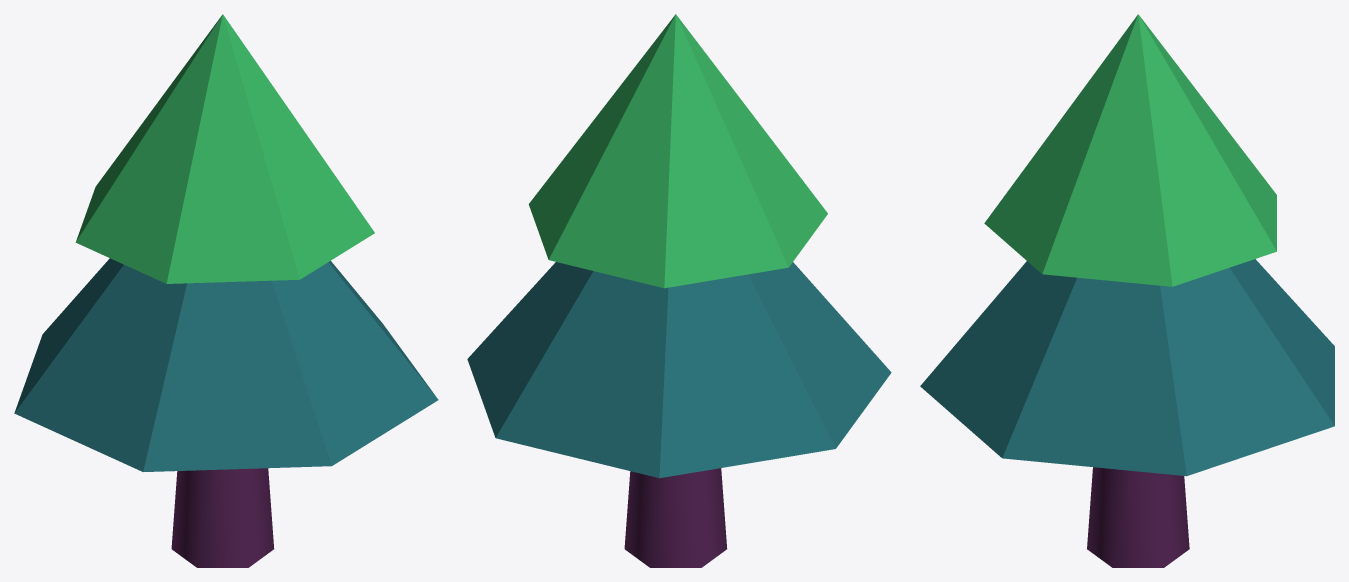
The model's file is tree.glb.
3 views of the same model, side by side, from view 1: azimuth 30°, elevation 25°; view 2: azimuth 150°, elevation 25°; view 3: azimuth 270°, elevation 25° (orthographic).
Visible parts, largest first — view 1: Leaves_Low, Leaves_High, Trunk; view 2: Leaves_Low, Leaves_High, Trunk; view 3: Leaves_Low, Leaves_High, Trunk.
Part boxes in pixels (<box>): Leaves_Low: <box>14,258,438,471</box>; Leaves_High: <box>75,14,374,283</box>; Trunk: <box>171,468,274,567</box>; Leaves_Low: <box>467,262,891,478</box>; Leaves_High: <box>528,14,827,288</box>; Trunk: <box>624,468,727,567</box>; Leaves_Low: <box>920,259,1334,476</box>; Leaves_High: <box>984,14,1276,286</box>; Trunk: <box>1087,467,1189,567</box>.
Bounding box in the file's own units: 1.66 × 2.3 × 1.62.
